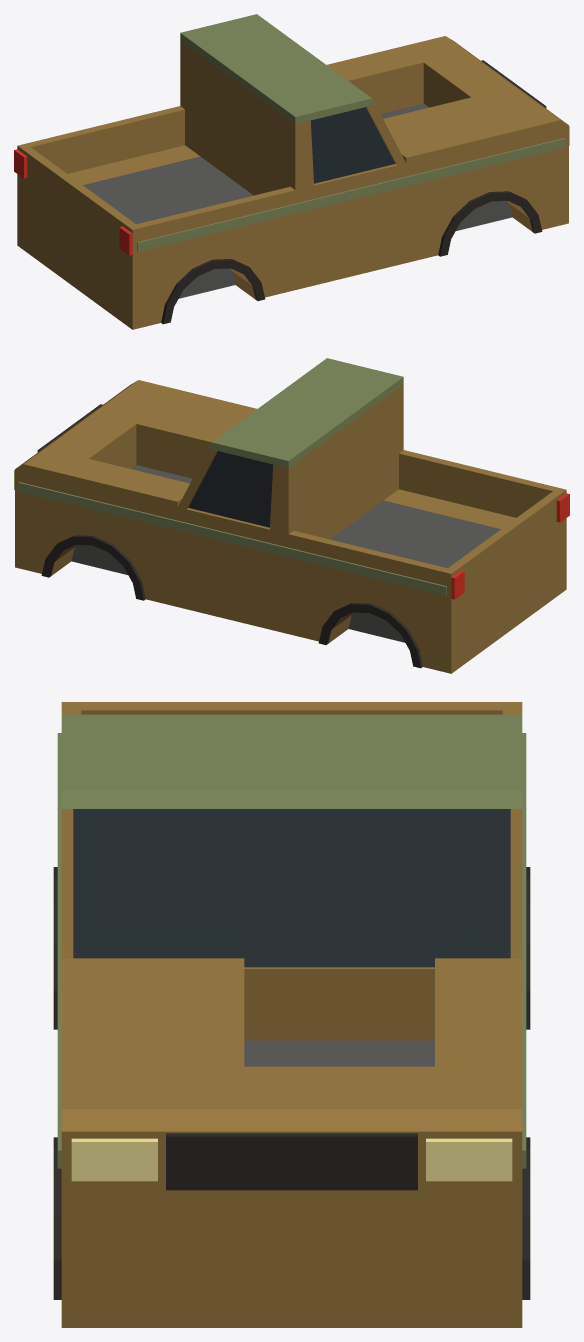
The model's file is base_scout.glb.
3 views of the same model, one above another, from view 1: azimuth 30°, elevation 25°; view 2: azimuth 150°, elevation 25°; view 3: azimuth 270°, elevation 25° (orthographic). The views are drawn at different scales.
Parts seen in each view (by area): view 1: base_scout; view 2: base_scout; view 3: base_scout.
Part boxes in pixels (<box>): base_scout: <box>14,14,569,329</box>; base_scout: <box>14,358,569,673</box>; base_scout: <box>53,702,530,1327</box>.
Bounding box in the file's own units: 5.2 × 1.94 × 2.42.
